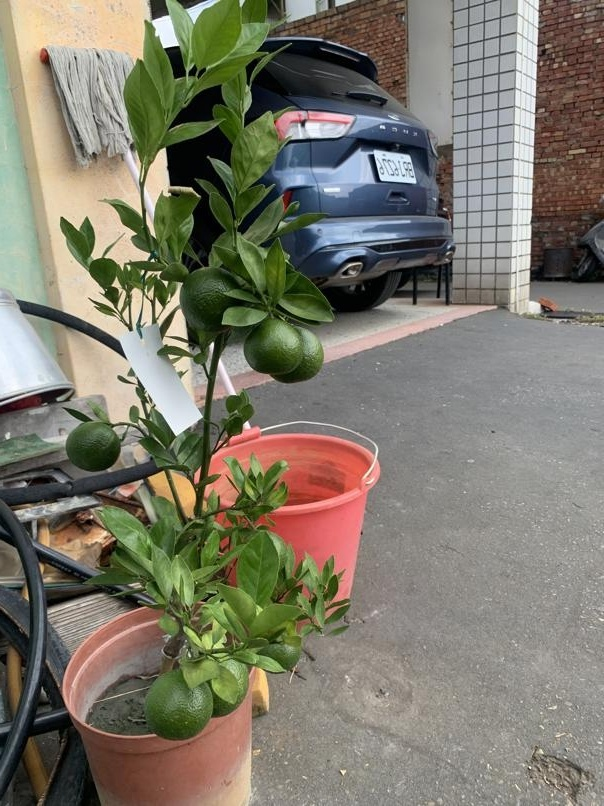Tangerine: (142, 670, 215, 744), (243, 312, 318, 380), (175, 266, 245, 323), (64, 417, 119, 472), (238, 0, 270, 25)
